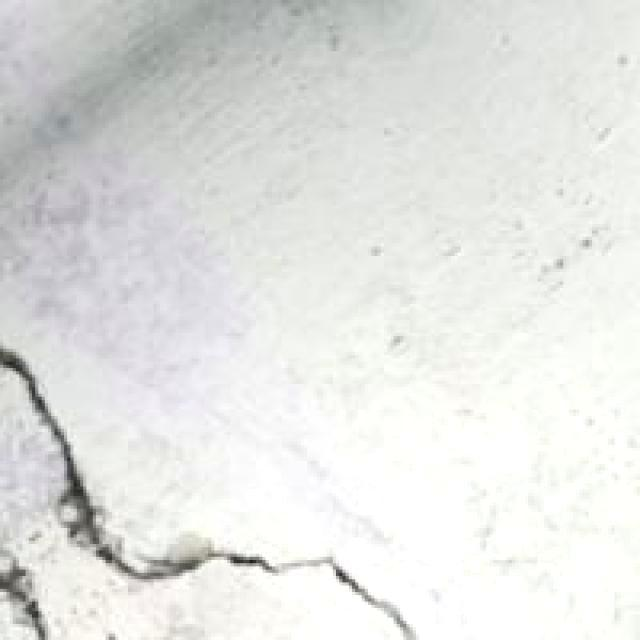SurfaceCrack: (0, 350, 446, 628)
